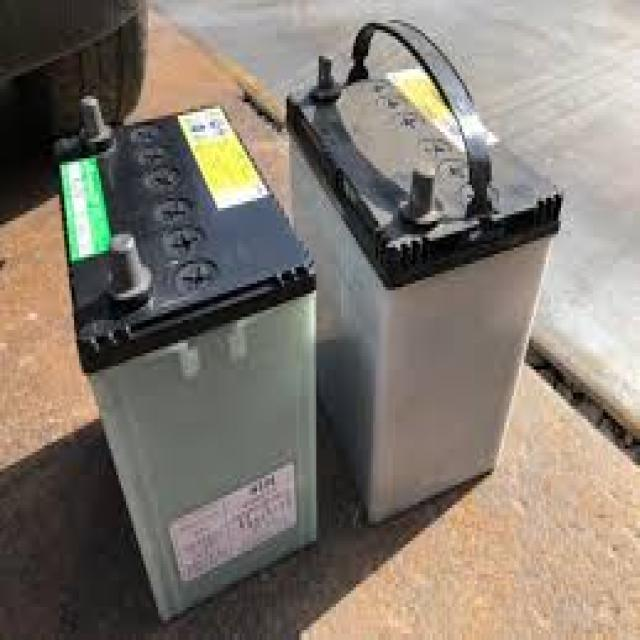b3: (40, 15, 572, 585)
